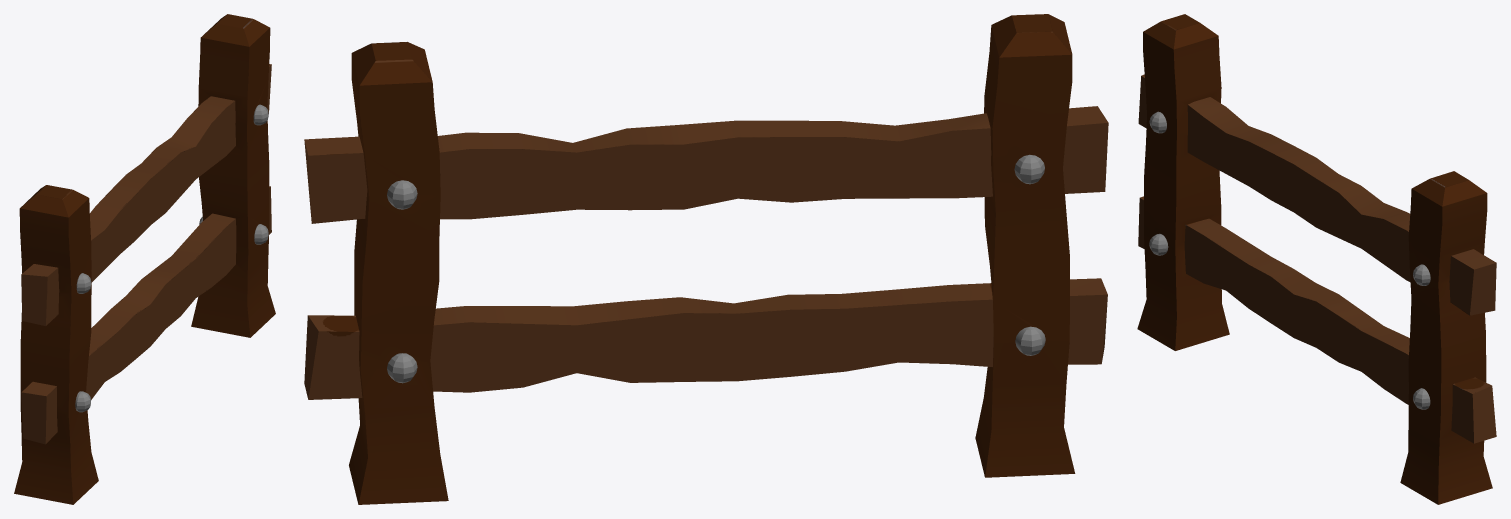
The model's file is Staccionata.fbx.
3 views of the same model, side by side, from view 1: azimuth 30°, elevation 25°; view 2: azimuth 150°, elevation 25°; view 3: azimuth 270°, elevation 25° (orthographic). The views are drawn at different scales.
Visible parts, largest first — view 1: polySurface13; view 2: polySurface13; view 3: polySurface13.
Part boxes in pixels (<box>): polySurface13: <box>14,14,275,504</box>; polySurface13: <box>304,14,1108,504</box>; polySurface13: <box>1137,14,1496,504</box>.
Size of the model in its own units: 1.43 by 1.01 by 1.07.
1 material, 1 textured.
